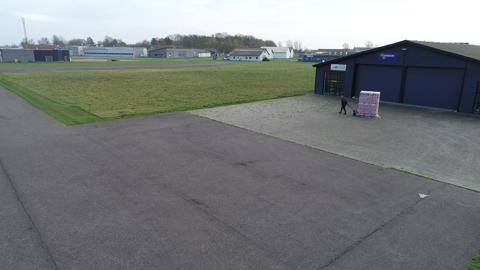RockwoolPallet: (356, 89, 382, 119)
